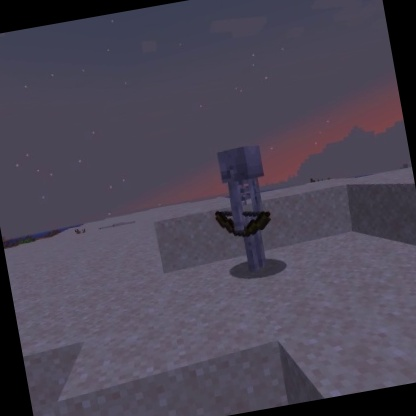skeleton: (200, 140, 285, 281)
